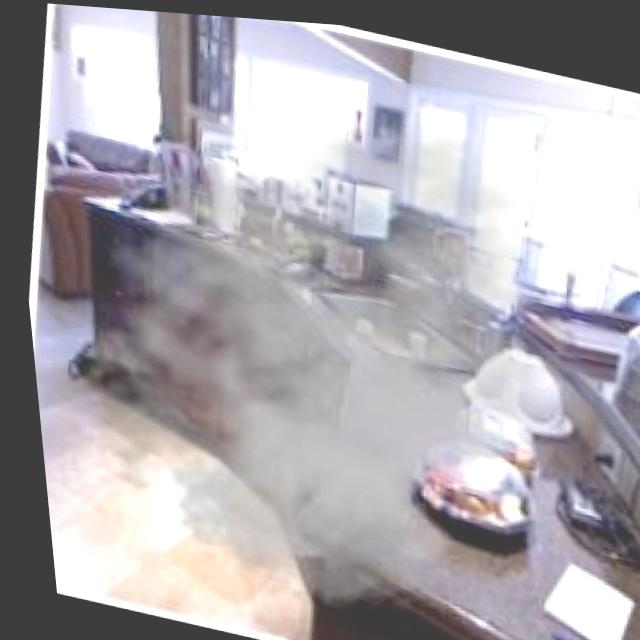no_helmet: (3, 36, 640, 640)
